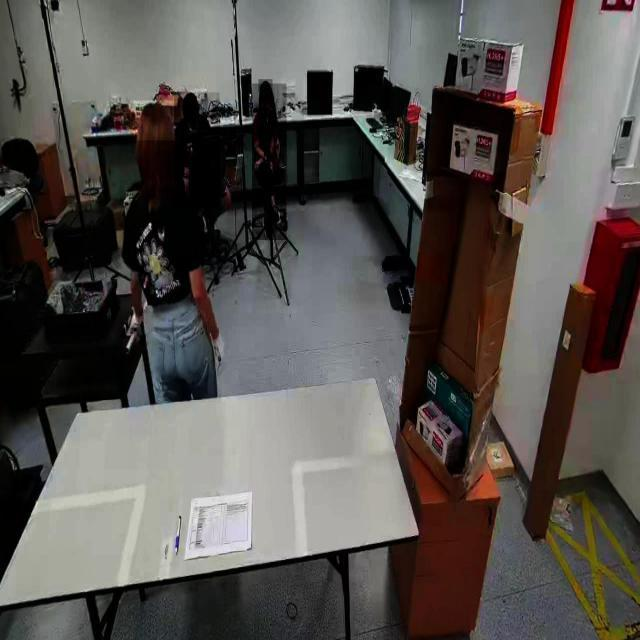gloves: (128, 308, 145, 345), (210, 330, 224, 374)
